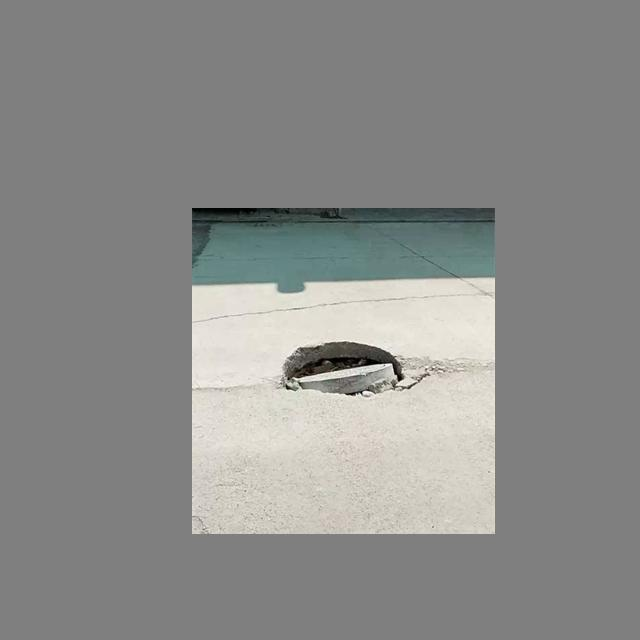circle: (269, 333, 447, 413)
